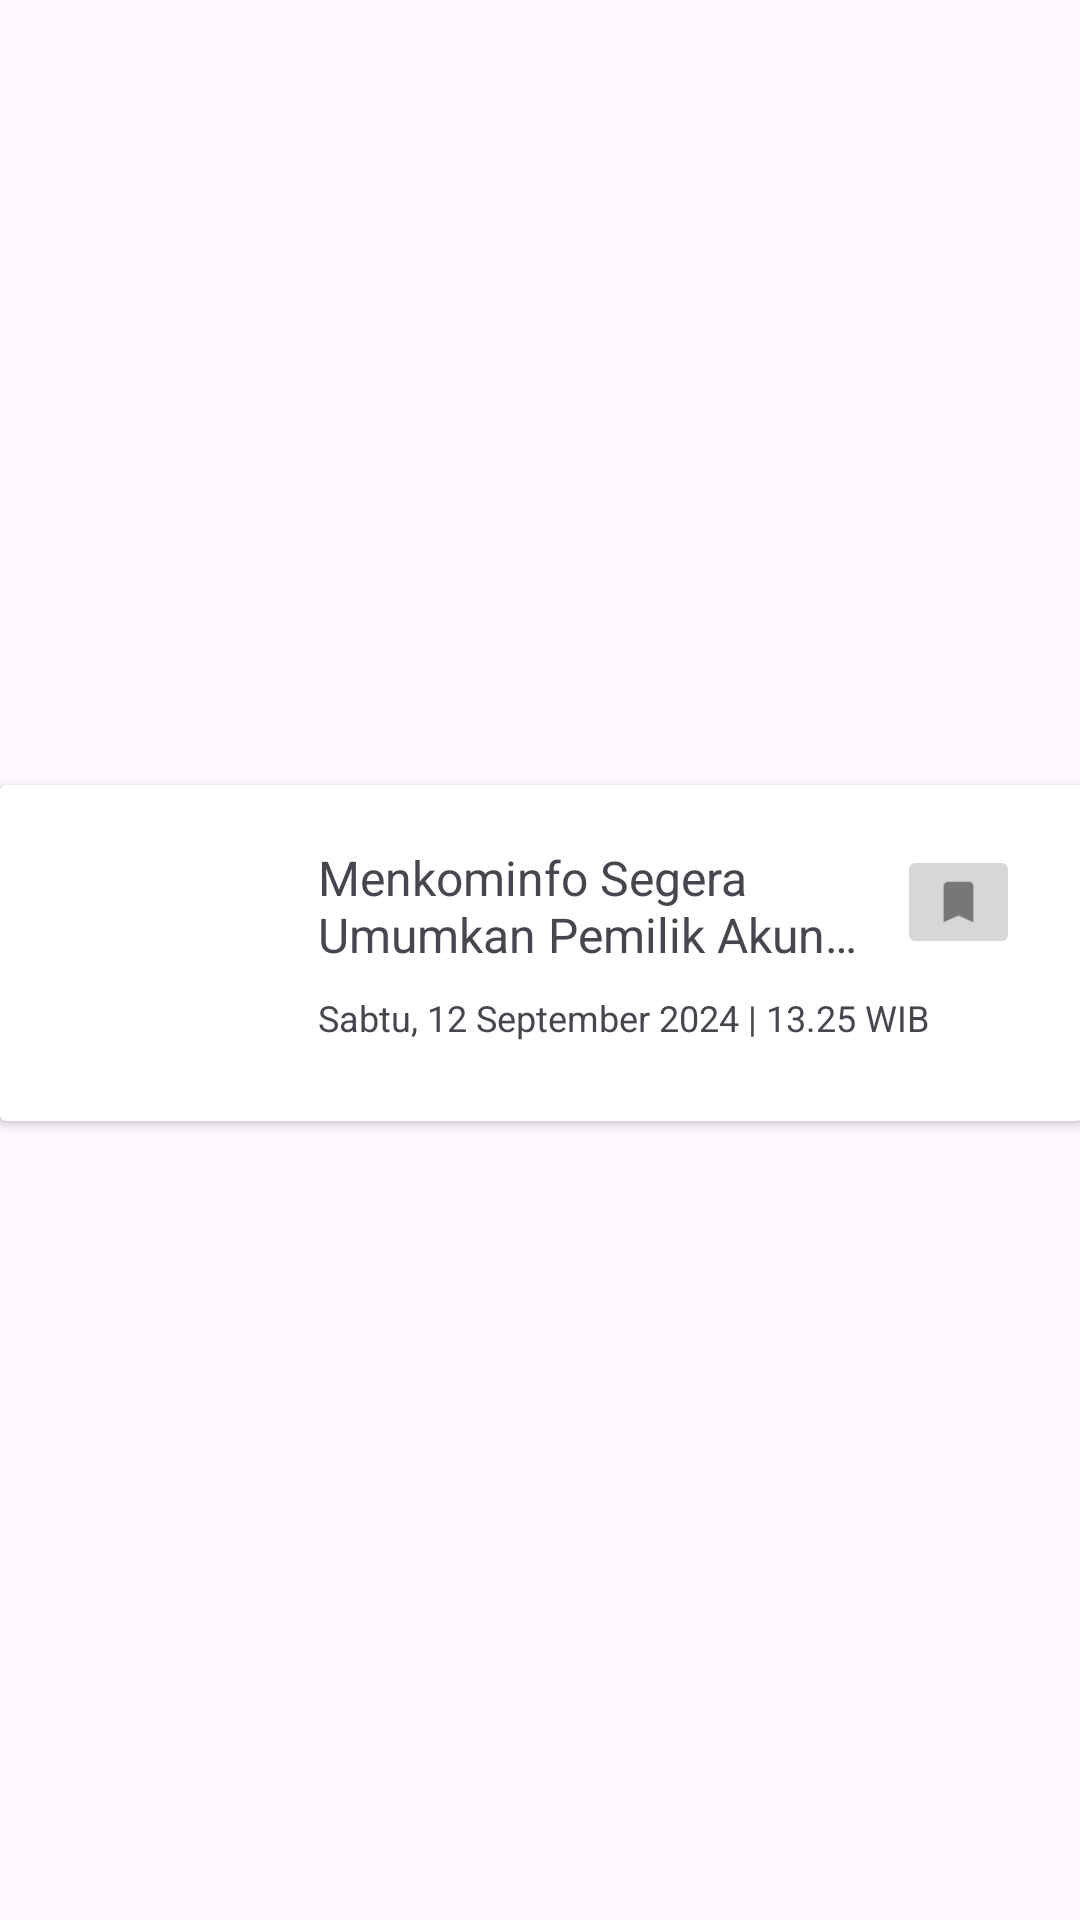

Where icons sit on this 1080*1920 app screen, as (x1, y1, x2, y2):
symbols bookmark: (909, 863, 1008, 941)
